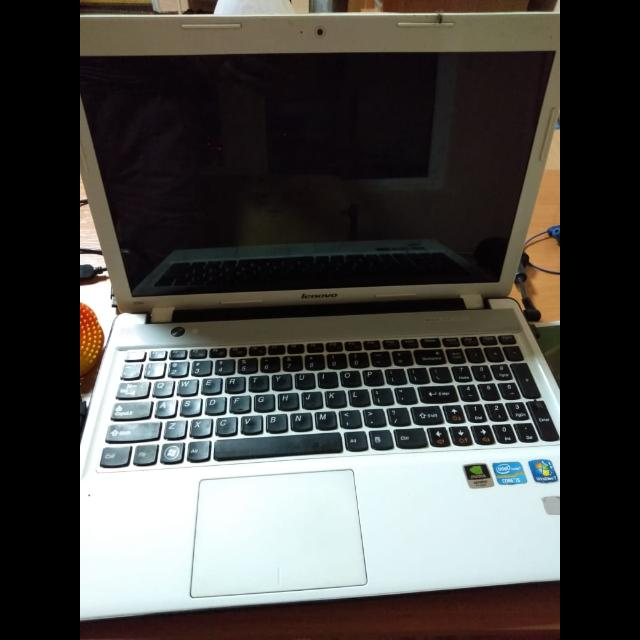Laptop: (80, 7, 560, 629)
